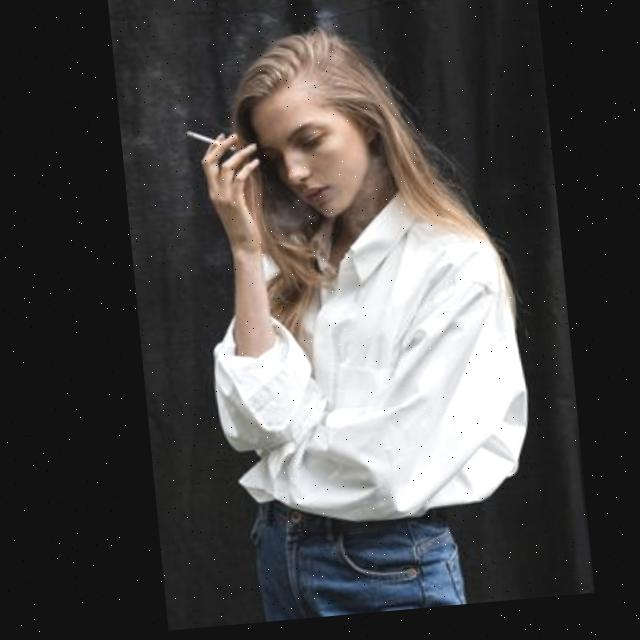cigarette: (183, 131, 233, 157)
